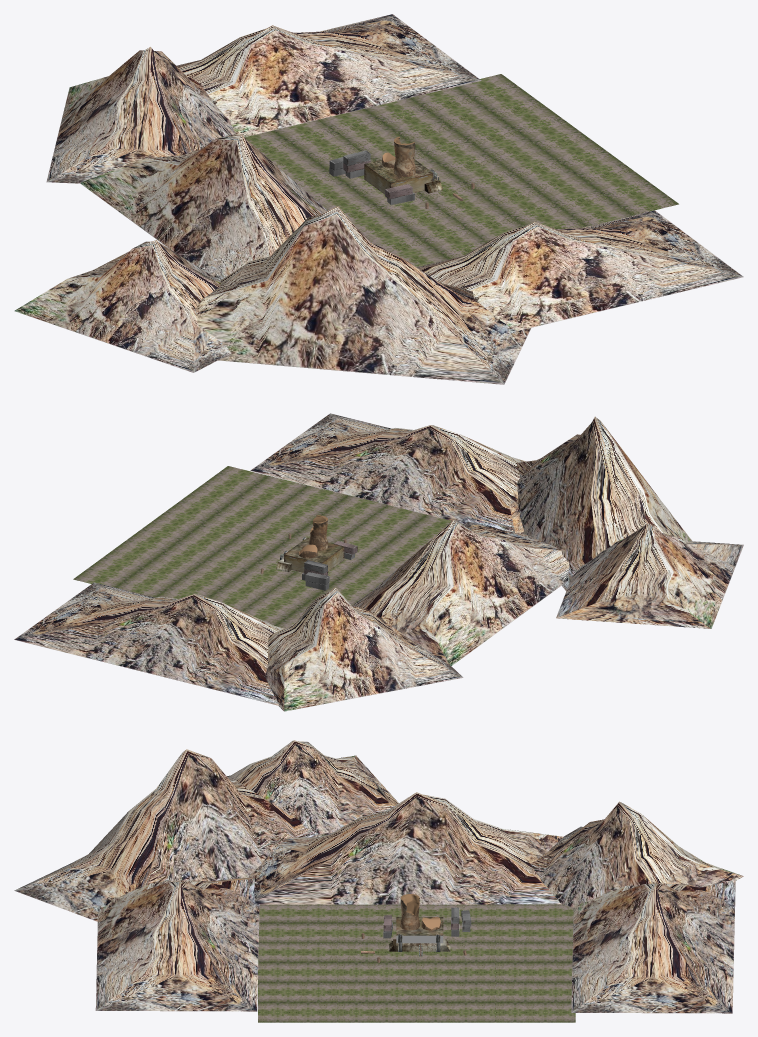
File: Cenario.fbx
3 renders of one model, top to bottom at view 1: azimuth 30°, elevation 25°; view 2: azimuth 150°, elevation 25°; view 3: azimuth 270°, elevation 25°, orthographic. The views are drawn at different scales.
Parts seen in each view (by area): view 1: pCube88, pCube87, pCube91, pCube86, pCube89, pCube90, pPlane11, pPlane7, pPlane6, pPlane10, pPlane9, pPlane4 (+8 smaller); view 2: pCube87, pCube91, pCube86, pCube88, pCube90, pCube89, pPlane11, pPlane7, pPlane6, pPlane12, pPlane10, pPlane5 (+8 smaller); view 3: pCube86, pCube88, pCube87, pCube91, pCube90, pCube89, pPlane11, pPlane7, pPlane12, pPlane6, pPlane13, pPlane10 (+9 smaller).
Part boxes in pixels (x1=…): pCube88: x1=195, y1=206, x2=531, y2=384; pCube87: x1=417, y1=210, x2=743, y2=330; pCube91: x1=176, y1=14, x2=481, y2=137; pCube86: x1=80, y1=134, x2=327, y2=280; pCube89: x1=14, y1=240, x2=231, y2=372; pCube90: x1=46, y1=47, x2=235, y2=183; pPlane11: x1=542, y1=171, x2=678, y2=226; pPlane7: x1=454, y1=106, x2=589, y2=161; pPlane6: x1=498, y1=139, x2=633, y2=193; pPlane10: x1=411, y1=74, x2=545, y2=128; pPlane9: x1=318, y1=97, x2=452, y2=151; pPlane4: x1=419, y1=161, x2=540, y2=216; pCube87: x1=250, y1=413, x2=526, y2=533; pCube91: x1=14, y1=582, x2=283, y2=705; pCube86: x1=352, y1=519, x2=569, y2=665; pCube88: x1=516, y1=416, x2=692, y2=590; pCube90: x1=265, y1=587, x2=463, y2=711; pCube89: x1=556, y1=523, x2=743, y2=628; pPlane11: x1=189, y1=466, x2=308, y2=513; pPlane7: x1=112, y1=523, x2=230, y2=570; pPlane6: x1=150, y1=494, x2=268, y2=542; pPlane12: x1=269, y1=485, x2=388, y2=533; pPlane10: x1=73, y1=551, x2=192, y2=597; pPlane5: x1=192, y1=542, x2=295, y2=590; pCube86: x1=249, y1=792, x2=563, y2=904; pCube88: x1=14, y1=749, x2=333, y2=921; pCube87: x1=95, y1=878, x2=259, y2=1011; pCube91: x1=571, y1=880, x2=735, y2=1013; pCube90: x1=530, y1=801, x2=743, y2=907; pCube89: x1=227, y1=740, x2=398, y2=834; pPlane11: x1=258, y1=982, x2=338, y2=1022; pPlane7: x1=416, y1=982, x2=496, y2=1022; pPlane12: x1=258, y1=942, x2=338, y2=982; pPlane6: x1=337, y1=982, x2=416, y2=1022; pPlane13: x1=259, y1=904, x2=338, y2=943; pPlane10: x1=496, y1=982, x2=575, y2=1022.
Bounding box in the file's own units: 168 × 32.86 × 195.
